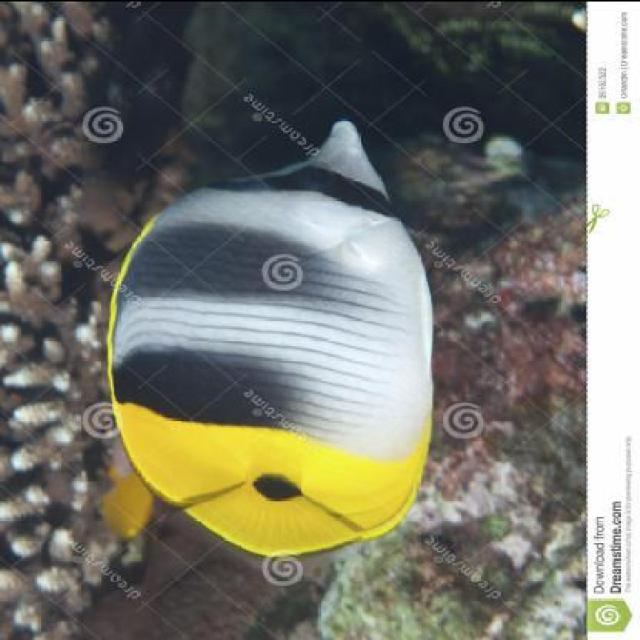ButterflyFish: (105, 116, 438, 558)
